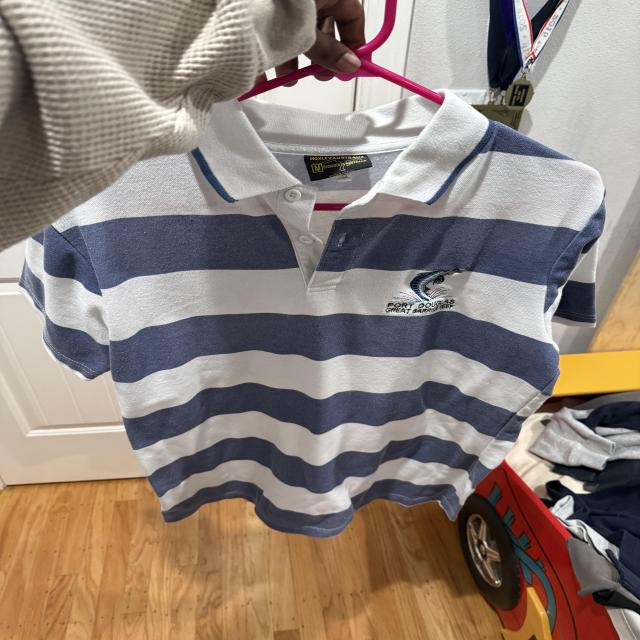back_tag: (299, 150, 380, 183)
